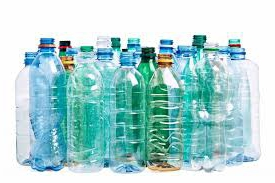plastic water bottle: (29, 34, 69, 173), (107, 50, 148, 175), (191, 42, 227, 172), (225, 47, 264, 166), (147, 51, 184, 174), (68, 45, 104, 167), (13, 50, 38, 171)
